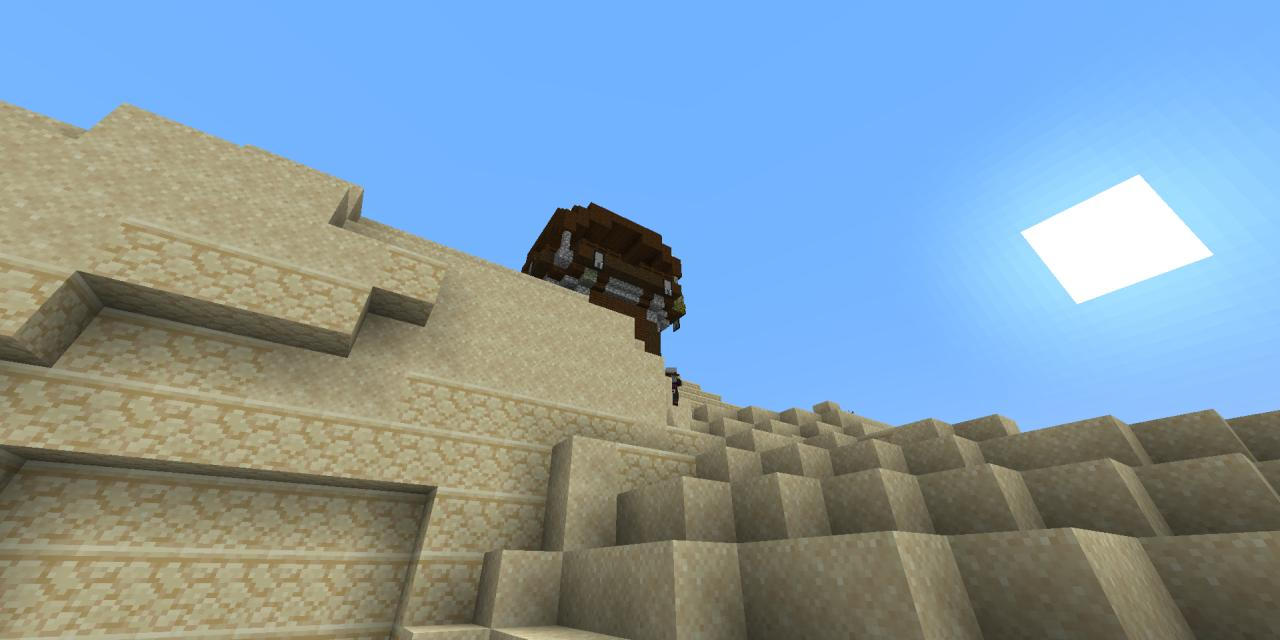pillager outpost: (521, 194, 710, 370)
